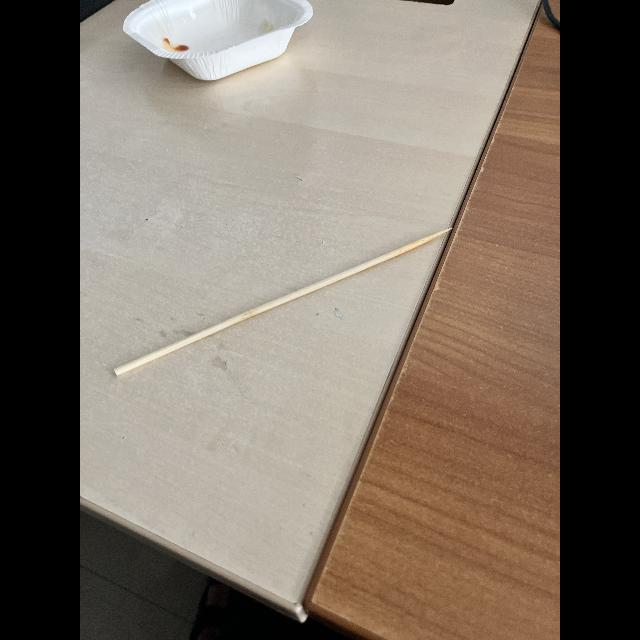cardboard_bowl: (110, 0, 328, 106)
stick: (91, 212, 479, 382)
